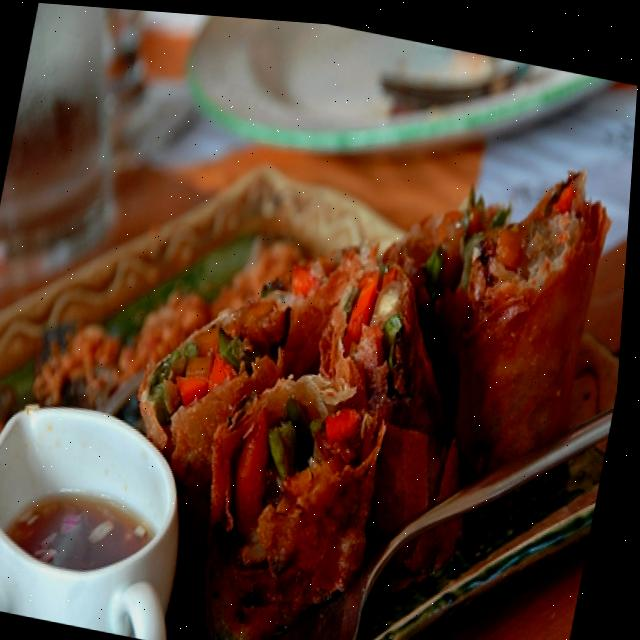炸货点心: (112, 38, 638, 640)
